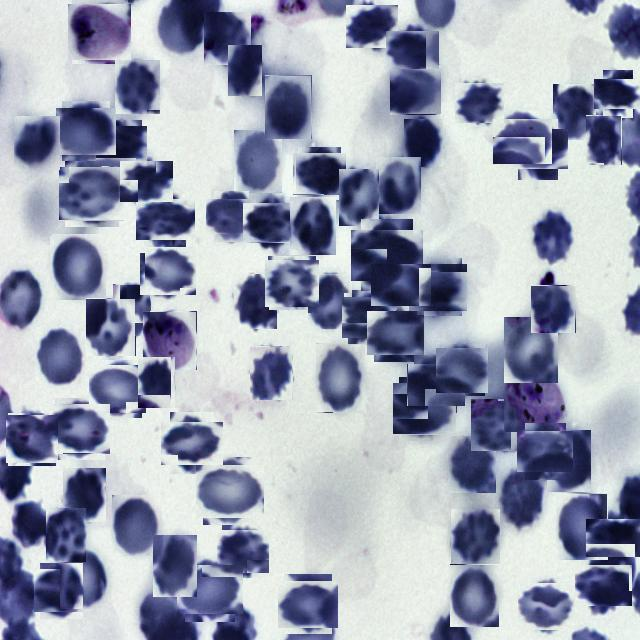red blood cell: (356, 224, 418, 286), (50, 234, 106, 300), (200, 461, 260, 522), (62, 164, 122, 224), (504, 317, 558, 383), (316, 343, 366, 413), (556, 493, 608, 560), (396, 380, 454, 438), (181, 560, 239, 618), (450, 564, 500, 627), (52, 401, 108, 457), (473, 398, 529, 453), (35, 327, 85, 388), (234, 130, 282, 193), (265, 75, 312, 139), (112, 495, 160, 556), (281, 577, 335, 631), (59, 104, 113, 158), (86, 298, 136, 356), (60, 549, 108, 609), (92, 362, 144, 416), (499, 468, 545, 528), (166, 416, 218, 469), (142, 245, 194, 298), (496, 115, 548, 168), (412, 261, 464, 314), (451, 509, 500, 565), (448, 436, 496, 493), (547, 430, 591, 492), (153, 535, 197, 597), (520, 580, 572, 632), (290, 197, 336, 255), (371, 307, 422, 358), (512, 124, 564, 174), (376, 260, 426, 312), (376, 157, 421, 214), (266, 258, 317, 308), (7, 414, 57, 465), (115, 59, 161, 114), (308, 273, 353, 329), (140, 194, 190, 244), (246, 198, 296, 248), (36, 566, 86, 616), (390, 64, 440, 114), (410, 360, 460, 410), (204, 12, 251, 65), (14, 116, 60, 170), (578, 561, 628, 610), (232, 274, 276, 329), (553, 84, 596, 140), (521, 427, 570, 476), (345, 293, 393, 342), (438, 346, 487, 394), (531, 212, 575, 265), (63, 468, 106, 522), (250, 346, 293, 400), (296, 150, 344, 198), (220, 528, 268, 576), (122, 157, 170, 205), (348, 2, 396, 50), (590, 514, 638, 562), (339, 169, 379, 226), (46, 508, 86, 562), (531, 285, 576, 333), (99, 123, 145, 169), (390, 27, 436, 73), (457, 80, 502, 125), (113, 284, 151, 336), (138, 356, 176, 408), (404, 119, 443, 167), (210, 195, 253, 238), (586, 115, 622, 165), (10, 501, 47, 549), (228, 45, 262, 96), (598, 74, 638, 114)
trophozoite: (504, 370, 565, 432), (70, 2, 130, 62), (143, 311, 197, 370)
